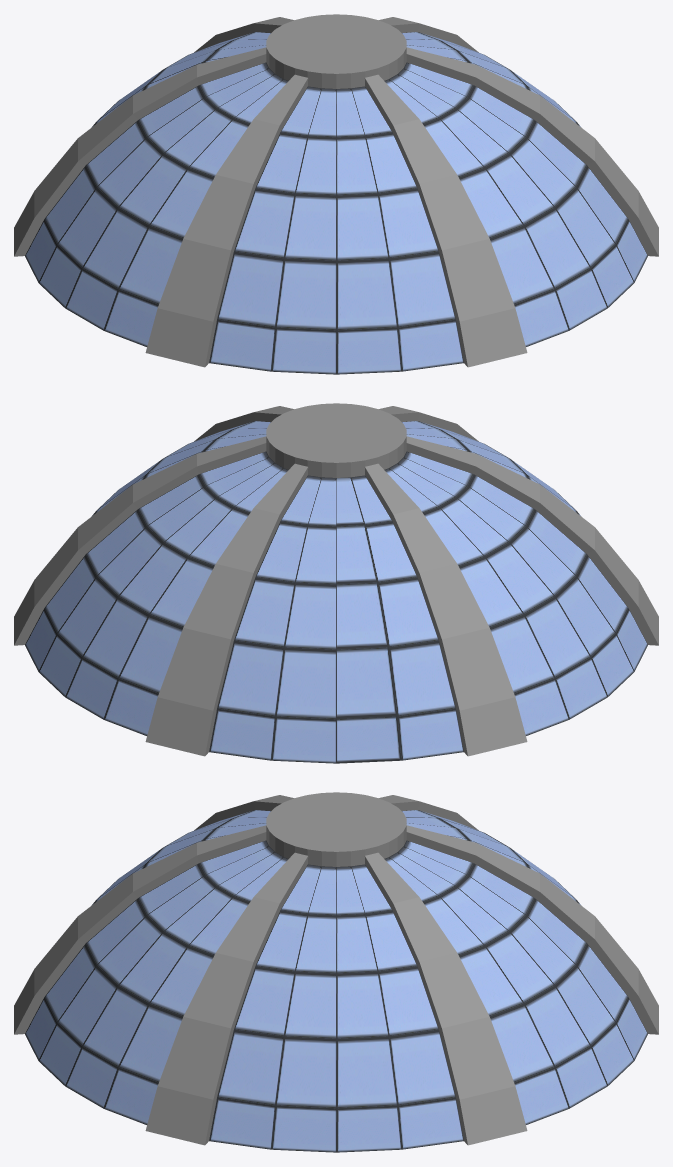
The model's file is miragebuild07.obj.
The picture shows the model from 3 angles, top to bottom: view 1: azimuth 30°, elevation 25°; view 2: azimuth 150°, elevation 25°; view 3: azimuth 270°, elevation 25°; orthographic projection.
Parts seen in each view (by area): view 1: miragebuild07; view 2: miragebuild07; view 3: miragebuild07.
Part boxes in pixels (x1,y1,x2,y2): miragebuild07: [14, 14, 658, 374]; miragebuild07: [14, 403, 658, 763]; miragebuild07: [14, 792, 658, 1152].
Bounding box in the file's own units: 36.96 × 12.89 × 38.04.
2 materials, 1 textured.
